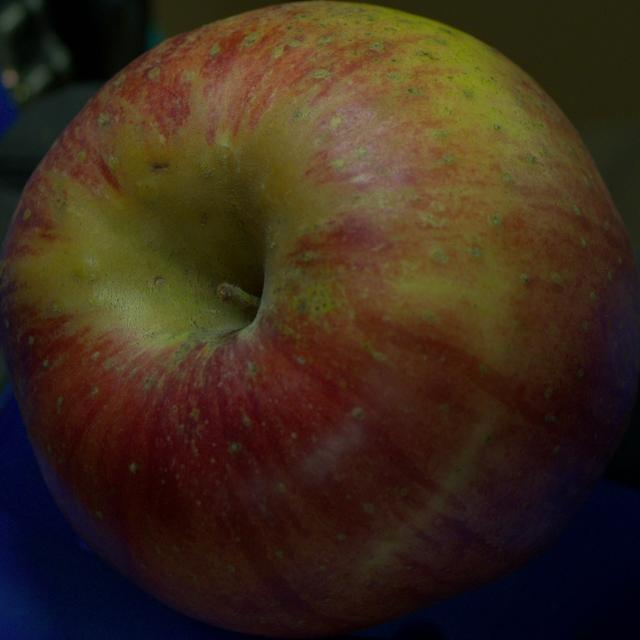apple: (0, 2, 639, 637)
pest: (151, 162, 170, 172), (154, 276, 164, 285)
